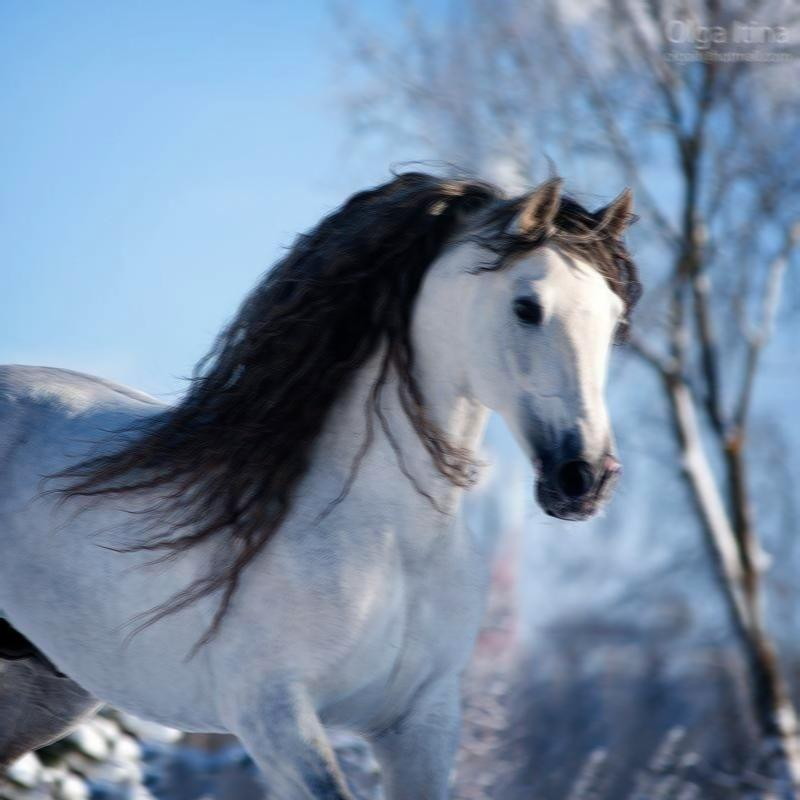horse: (0, 155, 641, 798)
